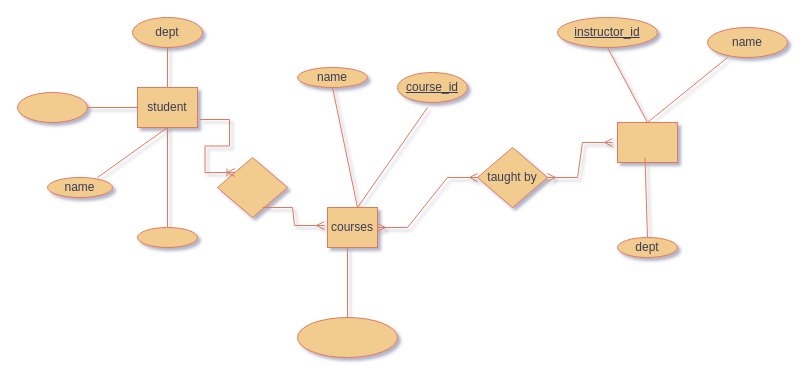
The diagram is 811 pixels wide and 381 high, and some of its shapes have lost their labels. The centre of each missing label's shape, as x and y in pixels:
DOB: [167,237]
enroll in: [252,187]
instructor: [647,142]
no_of_credits: [347,337]
roll_no: [52,107]
